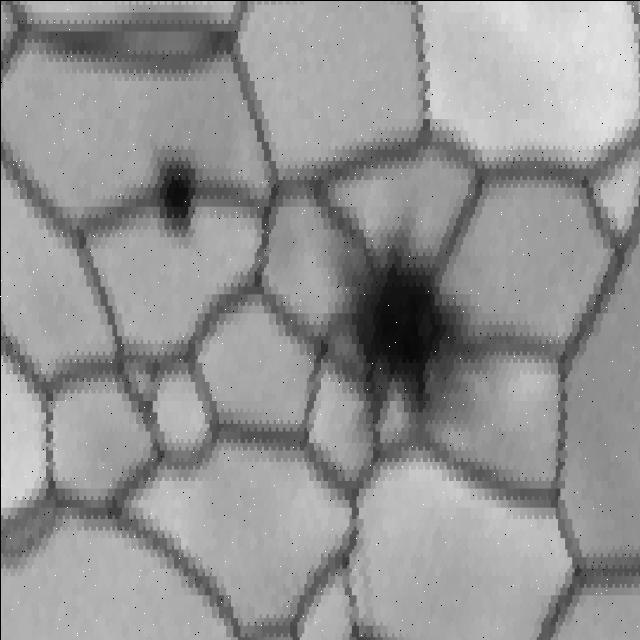good_void: (337, 208, 493, 461), (143, 136, 205, 253)
